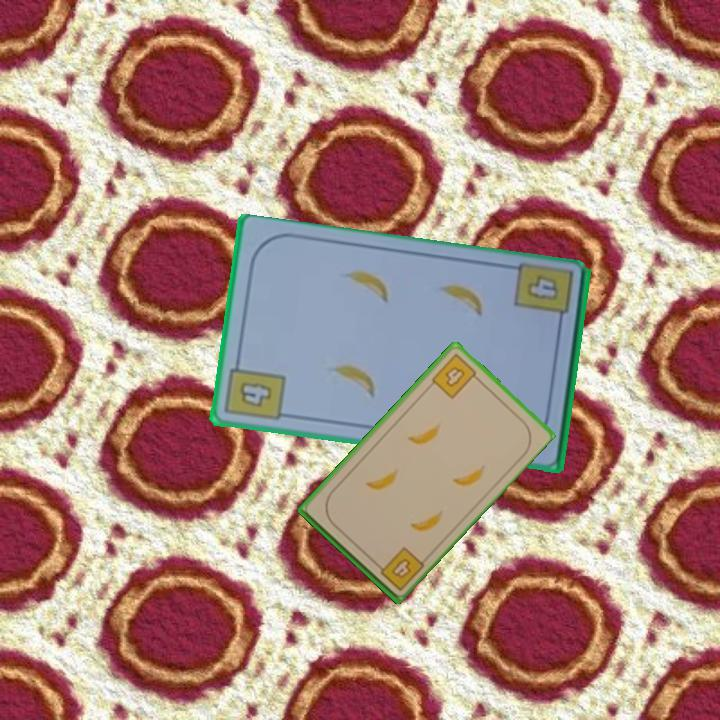4b: (222, 354, 288, 425), (428, 350, 483, 402), (371, 543, 427, 594), (522, 272, 562, 305)
